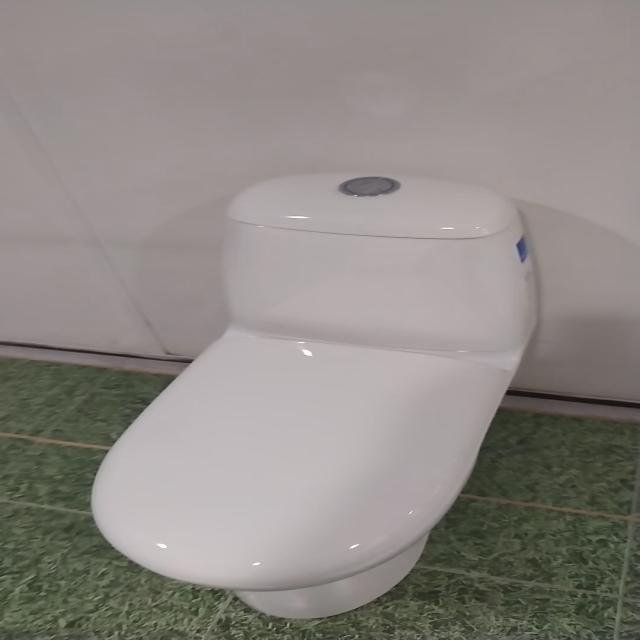toilet: (89, 171, 539, 619)
